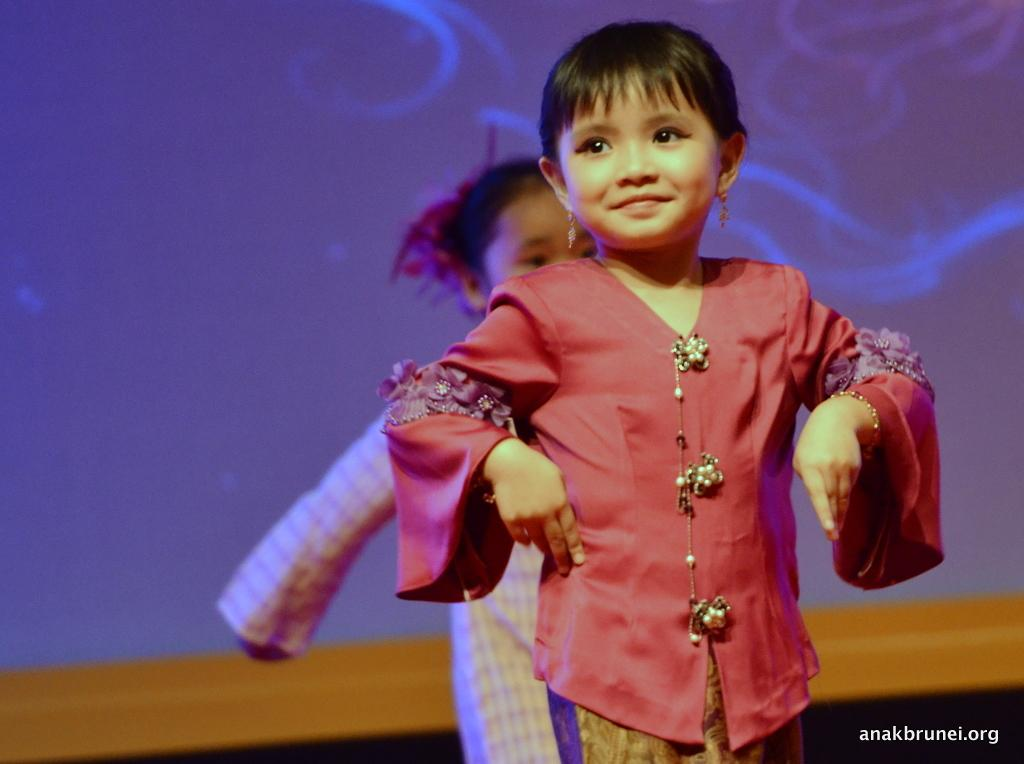Sem Máscara: (560, 71, 718, 245), (486, 187, 596, 284)
